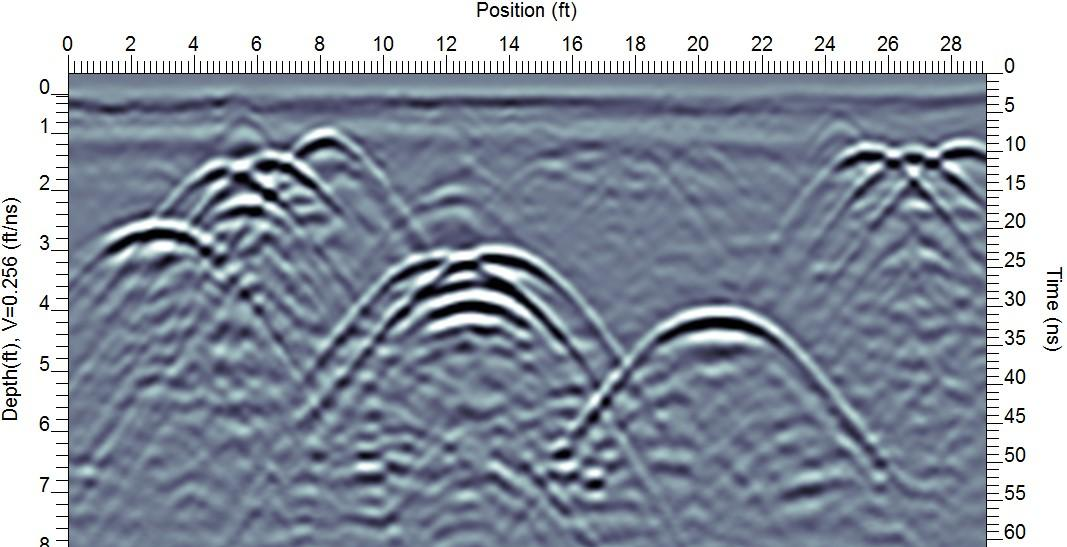hyperbola: (336, 235, 608, 433), (572, 291, 863, 468), (73, 203, 265, 364)
